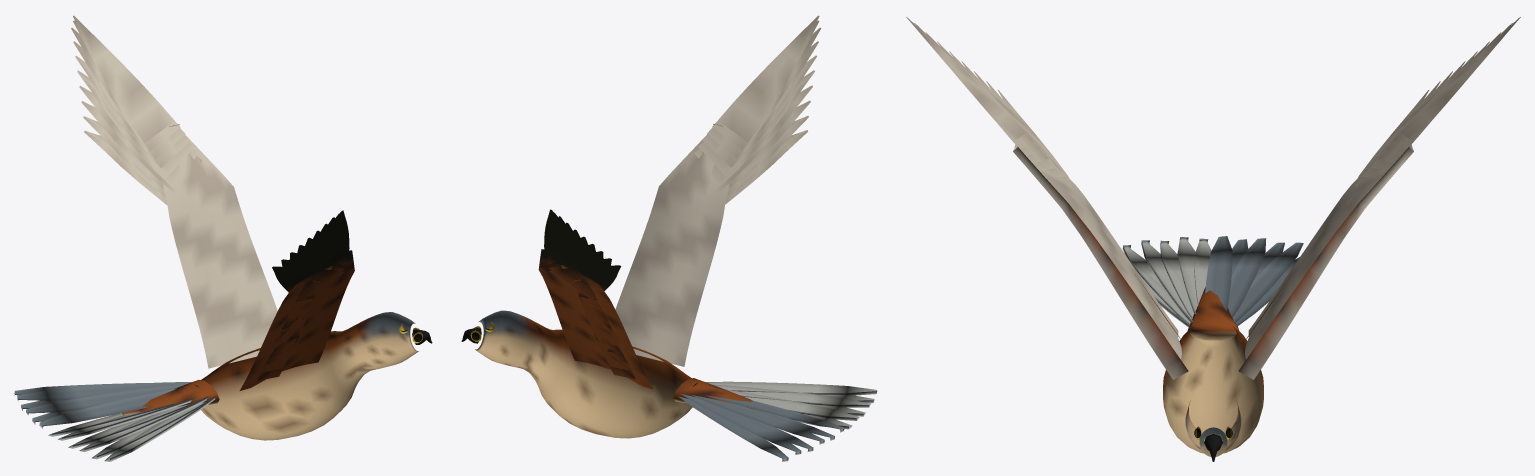
File: SM_Bird_kestrel_flap0.glb
3 renders of one model, left to right at view 1: azimuth 30°, elevation 25°; view 2: azimuth 150°, elevation 25°; view 3: azimuth 270°, elevation 25°, orthographic. The views are drawn at different scales.
Visible parts, largest first — view 1: SM_Bird_kestrel_flap0; view 2: SM_Bird_kestrel_flap0; view 3: SM_Bird_kestrel_flap0.
Boxes of the visible parts, x1,y1,x2,y2 form: SM_Bird_kestrel_flap0: (14, 15, 432, 461); SM_Bird_kestrel_flap0: (461, 15, 877, 461); SM_Bird_kestrel_flap0: (906, 17, 1520, 461).
Bounding box in the file's own units: 0.379 × 0.3191 × 0.4592.
